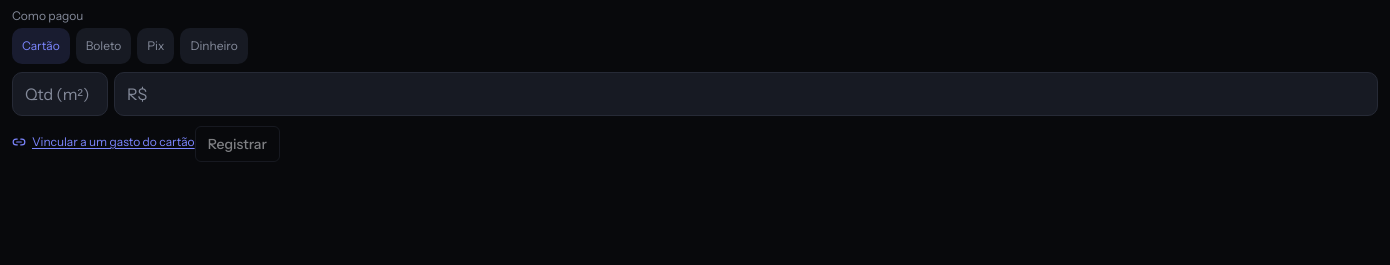
Test case: NovaCompra › diz em que categoria a despesa do boleto vai entrar
Click the button "Boleto" at {"x": 104, "y": 46}, box top-left (76, 28), bottom-right (131, 64)
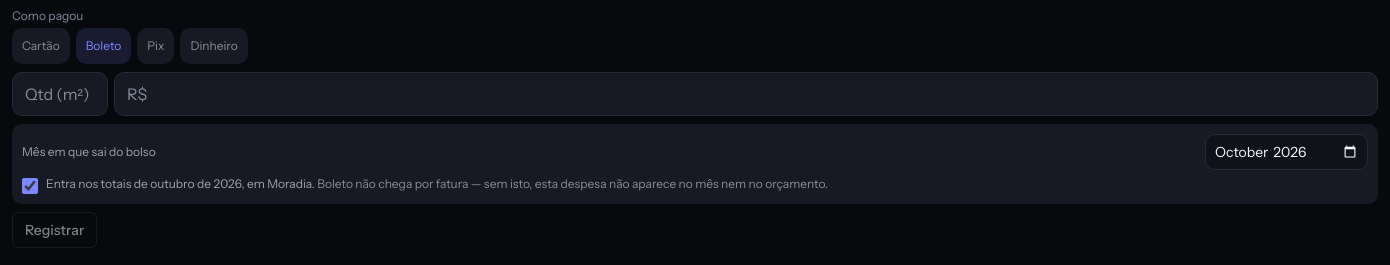
Check: the text ", em Moradia." is shown, box top-left (46, 176), bottom-right (828, 192)
